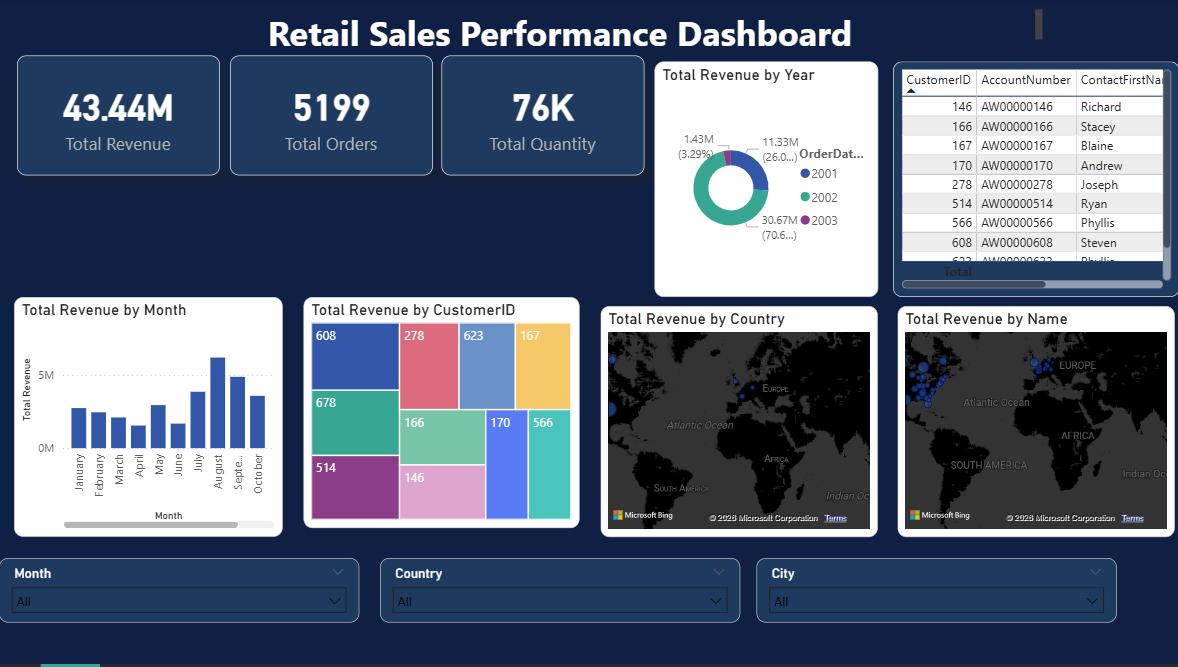

The dashboard page shown, as its layout file describes it:
{"tool":"powerbi","page":{"name":"Page 1","canvas":[1280,720],"ordinal":0},"visuals":[{"type":"card","fields":{"Values":["Person_Address.Total Revenue"]},"box":[20,60,220,130],"z":0},{"type":"card","fields":{"Values":["Person_Address.Total Orders"]},"box":[250,60,220,130],"z":1000},{"type":"card","fields":{"Values":["Person_Address.Total Quantity"]},"box":[480,60,220,130],"z":2000},{"type":"clusteredColumnChart","fields":{"Category":["Sales_SalesOrderHeader.OrderDate.Variation.Date Hierarchy.Month"],"Y":["Person_Address.Total Revenue"]},"box":[16.3,322.1,291.2,260.2],"z":3000},{"type":"treemap","fields":{"Group":["Sales_Customer.CustomerID"],"Values":["Person_Address.Total Revenue"]},"box":[330.2,322.1,299.3,250.5],"z":4000},{"type":"map","fields":{"Category":["Person_StateProvince.Country"],"Size":["Person_Address.Total Revenue"]},"box":[652.2,331.8,300.9,250.5],"z":5000},{"type":"map","fields":{"Category":["Person_StateProvince.Name"],"Size":["Person_Address.Total Revenue"]},"box":[974.3,331.8,300.9,250.5],"z":6000},{"type":"donutChart","fields":{"Y":["Person_Address.Total Revenue"],"Category":["Sales_SalesOrderHeader.OrderDate.Variation.Date Hierarchy.Year"]},"box":[710.8,66.7,242.4,255.4],"z":7000},{"type":"tableEx","fields":{"Values":["Sales_Customer.CustomerID","Sales_Customer.AccountNumber","Sales_SalesOrderHeader.ContactFirstName","Sales_SalesOrderHeader.ContactLastName","Person_Address.Total Revenue"]},"box":[969.4,66.7,310.7,255.4],"z":8000},{"type":"slicer","fields":{"Values":["Sales_SalesOrderHeader.OrderDate.Variation.Date Hierarchy.Month"]},"box":[0,605.1,390.4,69.9],"z":9000},{"type":"slicer","fields":{"Values":["Person_Address.City"]},"box":[821.4,605.1,390.4,69.9],"z":10000},{"type":"slicer","fields":{"Values":["Person_StateProvince.Country"]},"box":[413.1,605.1,390.4,69.9],"z":11000},{"type":"textbox","box":[17,5,1120,50],"z":12000}]}

Visuals, with their boxes in screenshot pixels (x1, y1, x2, y2), scaled from the page's 1280x720 canvas onto the 1178x667 screenshot:
card - Person_Address.Total Revenue: bbox=(18, 56, 221, 176)
card - Person_Address.Total Orders: bbox=(230, 56, 433, 176)
card - Person_Address.Total Quantity: bbox=(442, 56, 644, 176)
clusteredColumnChart - Sales_SalesOrderHeader.OrderDate.Variation.Date Hierarchy.Month x Person_Address.Total Revenue: bbox=(15, 298, 283, 539)
treemap - Sales_Customer.CustomerID x Person_Address.Total Revenue: bbox=(304, 298, 579, 530)
map - Person_StateProvince.Country x Person_Address.Total Revenue: bbox=(600, 307, 877, 539)
map - Person_StateProvince.Name x Person_Address.Total Revenue: bbox=(897, 307, 1174, 539)
donutChart - Person_Address.Total Revenue x Sales_SalesOrderHeader.OrderDate.Variation.Date Hierarchy.Year: bbox=(654, 62, 877, 298)
tableEx - Sales_Customer.CustomerID x Sales_Customer.AccountNumber: bbox=(892, 62, 1177, 298)
slicer - Sales_SalesOrderHeader.OrderDate.Variation.Date Hierarchy.Month: bbox=(0, 561, 359, 625)
slicer - Person_Address.City: bbox=(756, 561, 1115, 625)
slicer - Person_StateProvince.Country: bbox=(380, 561, 739, 625)
textbox: bbox=(16, 5, 1046, 51)
